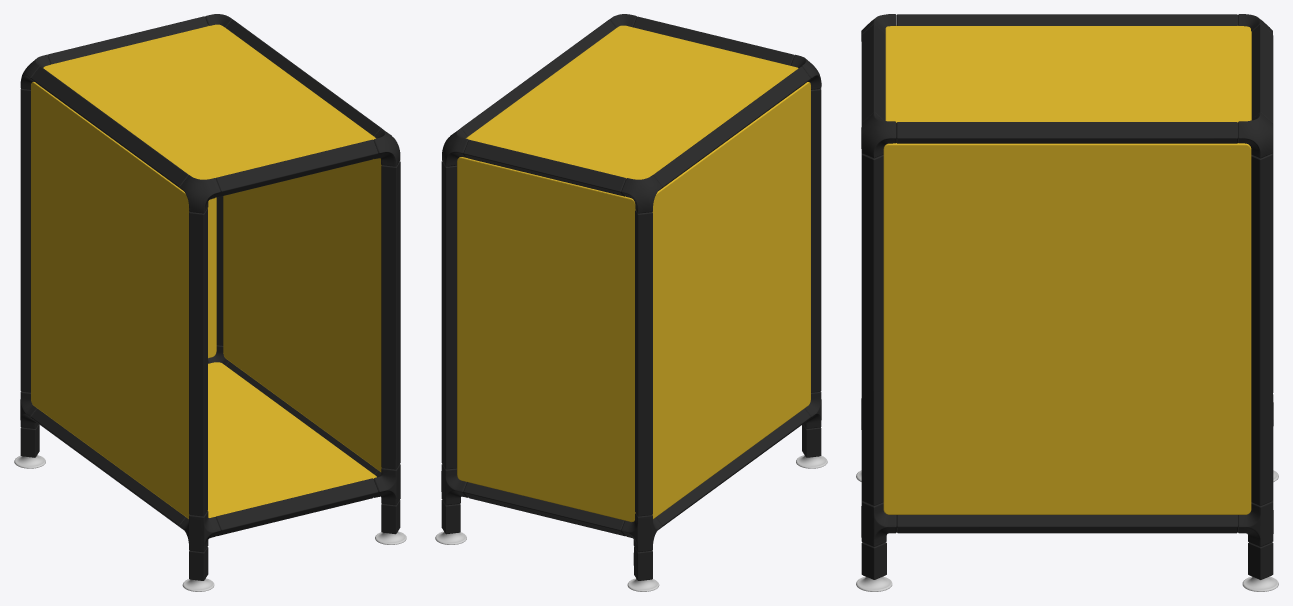
The picture shows the model from 3 angles, left to right: view 1: azimuth 30°, elevation 25°; view 2: azimuth 150°, elevation 25°; view 3: azimuth 270°, elevation 25°; orthographic projection. The views are drawn at different scales.
Visible parts, largest first — view 1: 229x374x420; view 2: 229x374x420; view 3: 229x374x420.
Part boxes in pixels (<box>): 229x374x420: <box>14,14,406,591</box>; 229x374x420: <box>435,14,827,591</box>; 229x374x420: <box>856,14,1278,591</box>.
Bounding box in the file's own units: 0.3188 × 0.5593 × 0.4632.
